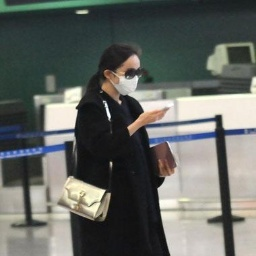correctlyWear: (102, 61, 144, 96)
